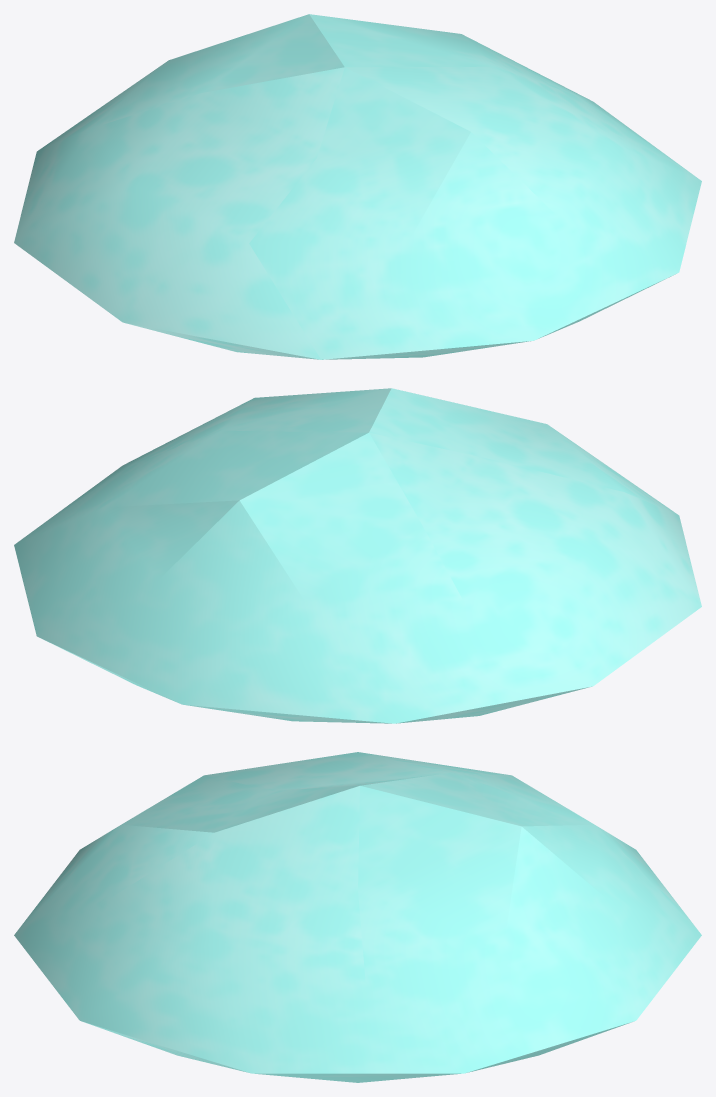
The model's file is Snow_Pile.fbx.
3 renders of one model, top to bottom at view 1: azimuth 30°, elevation 25°; view 2: azimuth 150°, elevation 25°; view 3: azimuth 270°, elevation 25°, orthographic. The views are drawn at different scales.
Parts seen in each view (by area): view 1: Icosphere; view 2: Icosphere; view 3: Icosphere.
Part boxes in pixels (bbox=[...]): Icosphere: bbox=[14, 14, 701, 359]; Icosphere: bbox=[14, 388, 701, 723]; Icosphere: bbox=[14, 752, 701, 1082].
Size of the model in its own units: 667 by 250 by 701.
